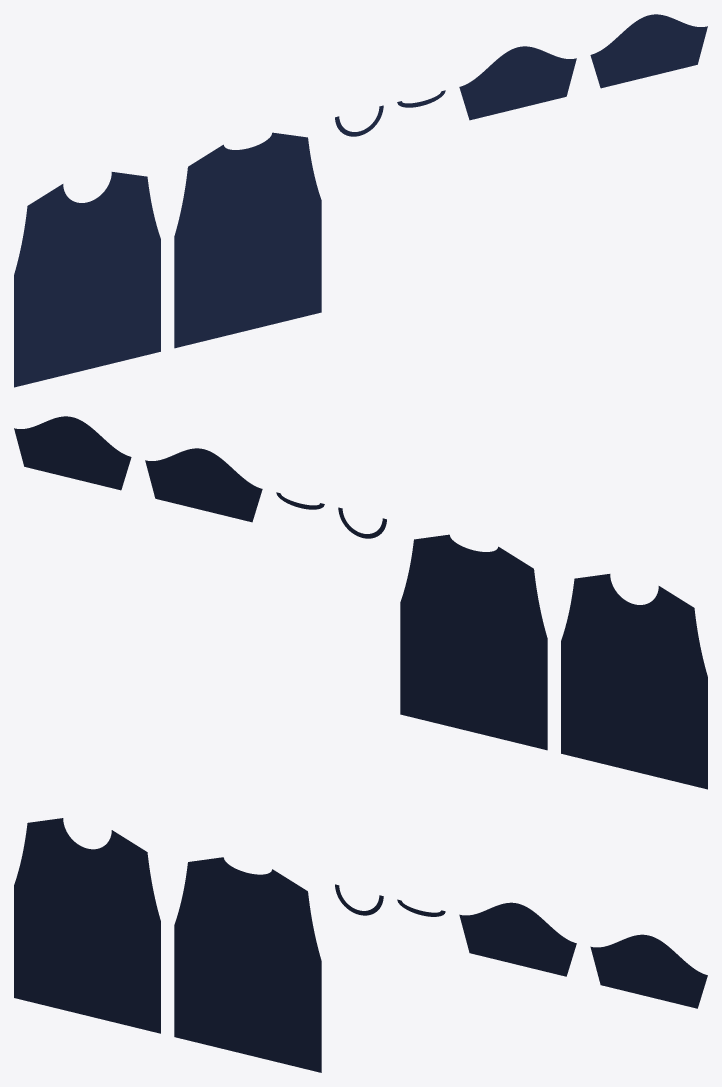
Rendered from camiseta-basica-supima-unisex-talla-M.glb.
3 views of the same model, one above another, from view 1: azimuth 30°, elevation 25°; view 2: azimuth 150°, elevation 25°; view 3: azimuth 330°, elevation 25° (orthographic).
Visible parts, largest first — view 1: patron-espalda, patron-delantero, patron-manga-izq, patron-manga-der; view 2: patron-espalda, patron-delantero, patron-manga-izq, patron-manga-der; view 3: patron-espalda, patron-delantero, patron-manga-izq, patron-manga-der.
Part boxes in pixels (left/top/right/bottom): patron-espalda: left=174, top=132, right=321, bottom=348; patron-delantero: left=14, top=172, right=160, bottom=387; patron-manga-izq: left=459, top=46, right=576, bottom=120; patron-manga-der: left=590, top=14, right=707, bottom=88; patron-espalda: left=400, top=534, right=547, bottom=750; patron-delantero: left=561, top=574, right=707, bottom=789; patron-manga-izq: left=145, top=448, right=262, bottom=522; patron-manga-der: left=14, top=416, right=131, bottom=490; patron-espalda: left=174, top=857, right=321, bottom=1072; patron-delantero: left=14, top=818, right=160, bottom=1033; patron-manga-izq: left=459, top=902, right=576, bottom=976; patron-manga-der: left=590, top=934, right=707, bottom=1008.
Bounding box in the file's own units: 2.57 × 0.77 × 0.
